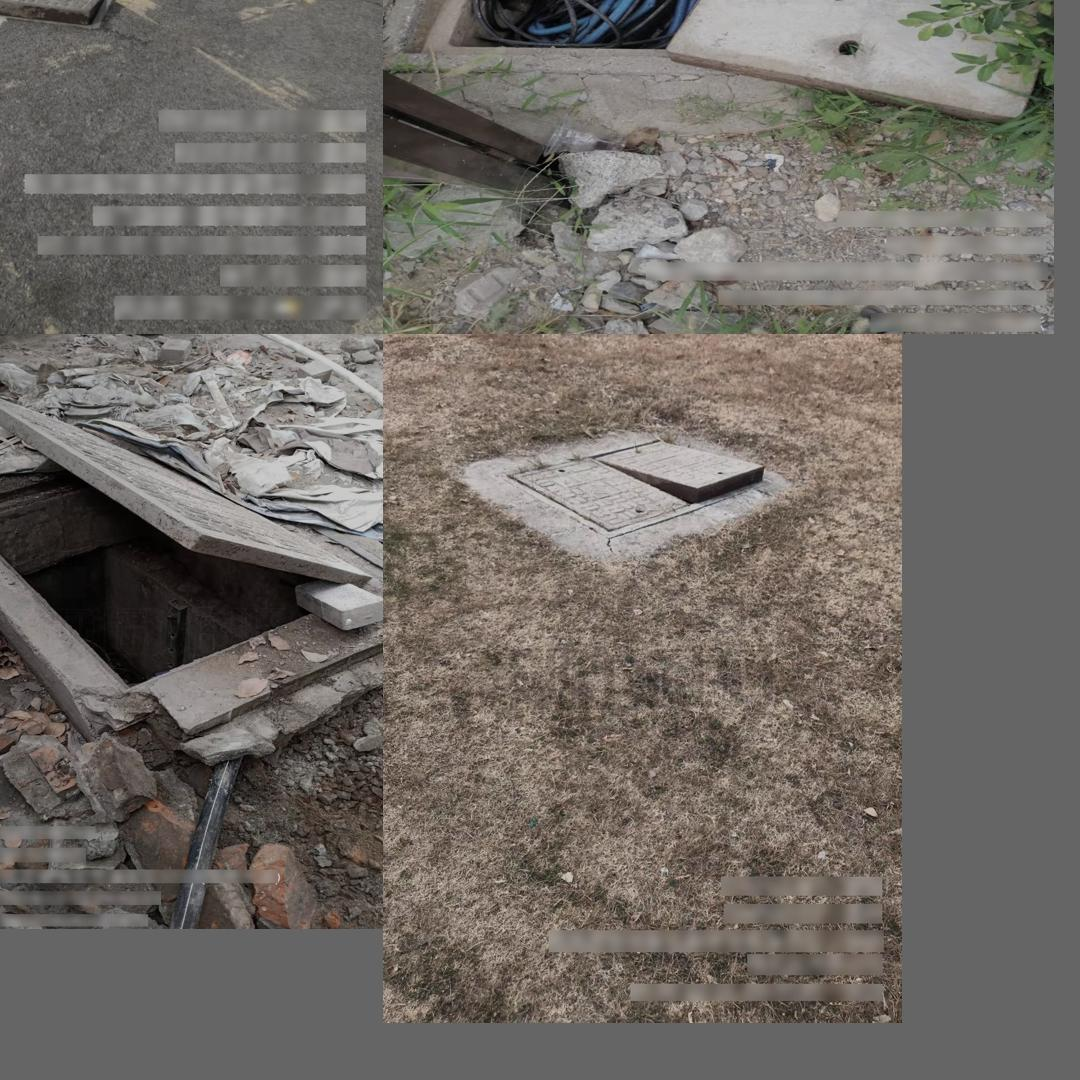uncovered: (0, 381, 383, 754), (383, 0, 1053, 126), (506, 436, 767, 539), (0, 0, 129, 32)
